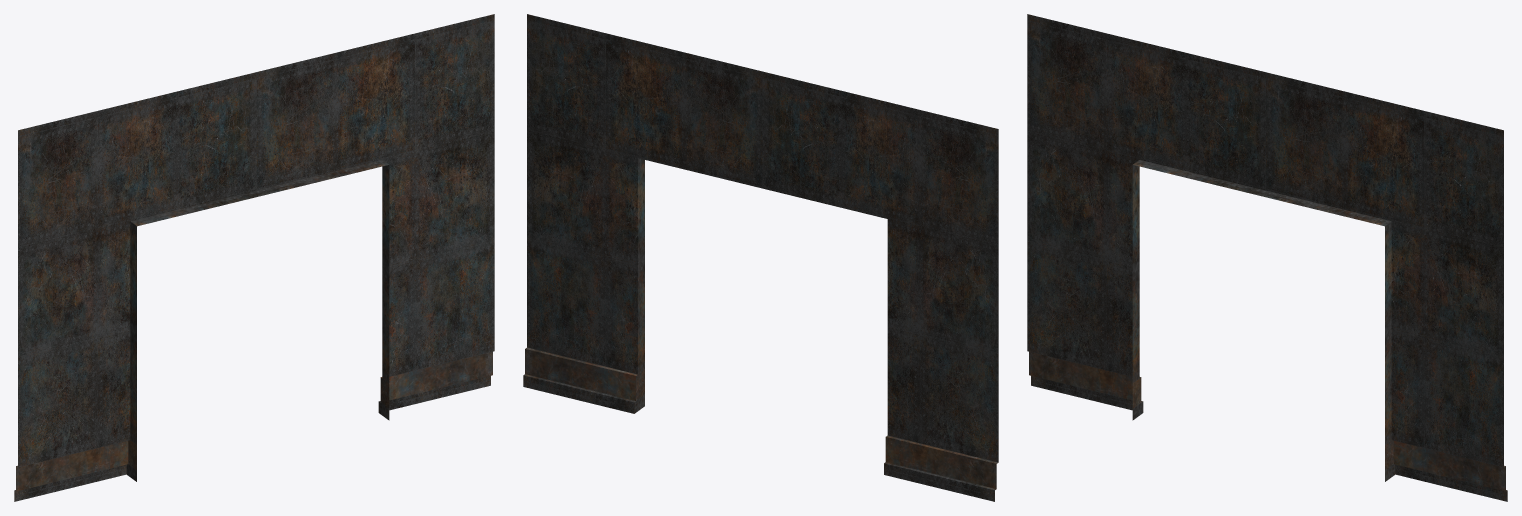
Rendered from Basement_Corridor_C_Wall_4m_Door.glb.
3 views of the same model, side by side, from view 1: azimuth 30°, elevation 25°; view 2: azimuth 150°, elevation 25°; view 3: azimuth 330°, elevation 25° (orthographic).
Parts seen in each view (by area): view 1: Basement_Corridor_C_Wall_4m_Door; view 2: Basement_Corridor_C_Wall_4m_Door; view 3: Basement_Corridor_C_Wall_4m_Door.
Part boxes in pixels (box(x1,y1,x2,y2)): Basement_Corridor_C_Wall_4m_Door: box(14, 14, 494, 501); Basement_Corridor_C_Wall_4m_Door: box(523, 14, 998, 501); Basement_Corridor_C_Wall_4m_Door: box(1027, 14, 1507, 501).
Bounding box in the file's own units: 4 × 3 × 0.1532.
2 materials, 2 textured.
